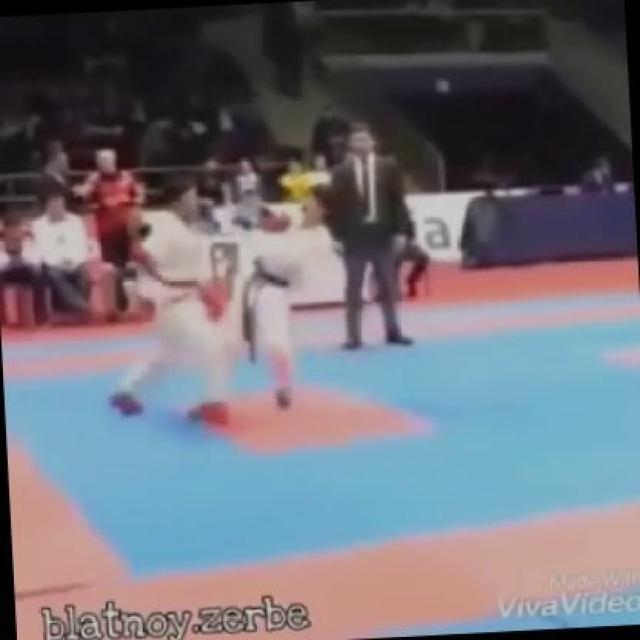fight: (97, 149, 348, 442)
non-fight: (296, 111, 433, 358), (12, 177, 108, 332)
